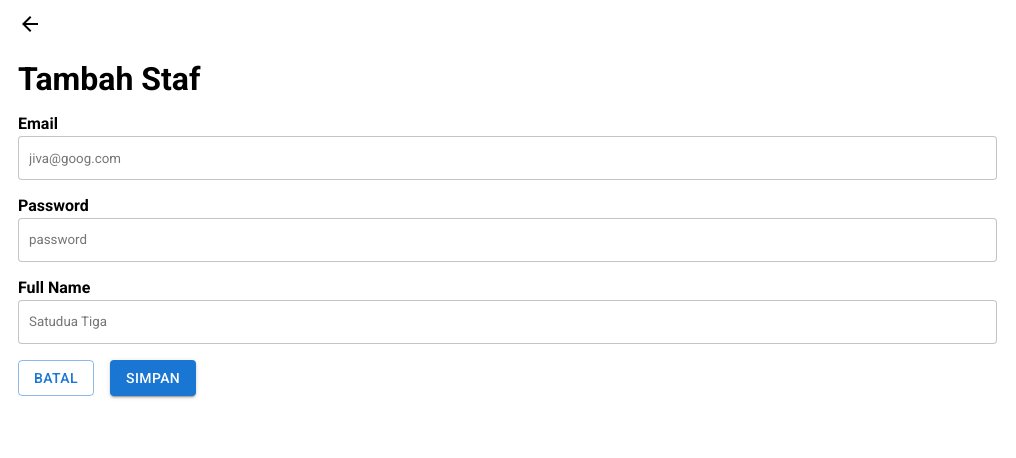
Test: Pengaturan Pengguna Tambah › renders form validation errors
The image size is (1016, 458).
Step 1. Click the button "Simpan" → (153,378), box [110, 360, 196, 396]
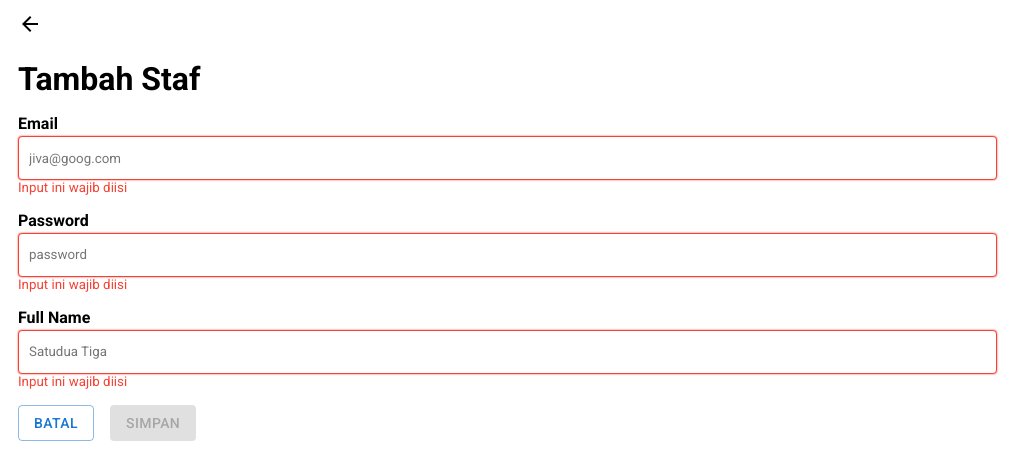
Expected: the text "Input ini wajib diisi" is shown 3 times, [18, 180, 127, 195]; [18, 277, 127, 292]; [18, 374, 127, 388]
